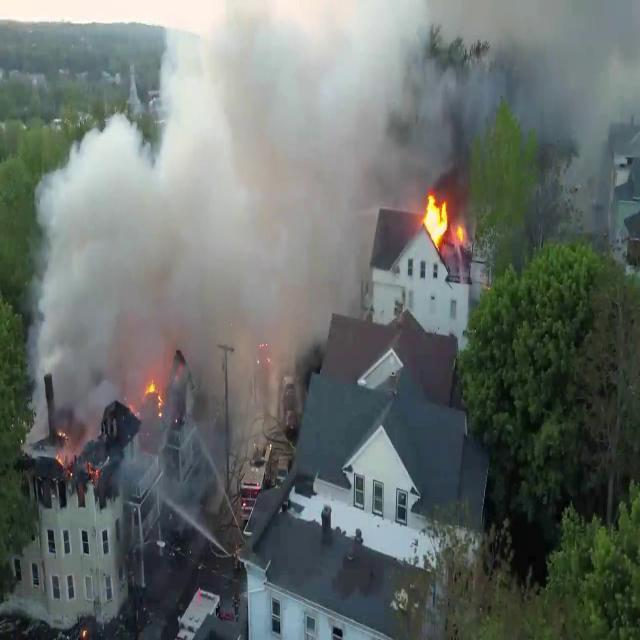Fire: (420, 186, 468, 252)
Smoke: (23, 0, 503, 438), (417, 0, 640, 219)
